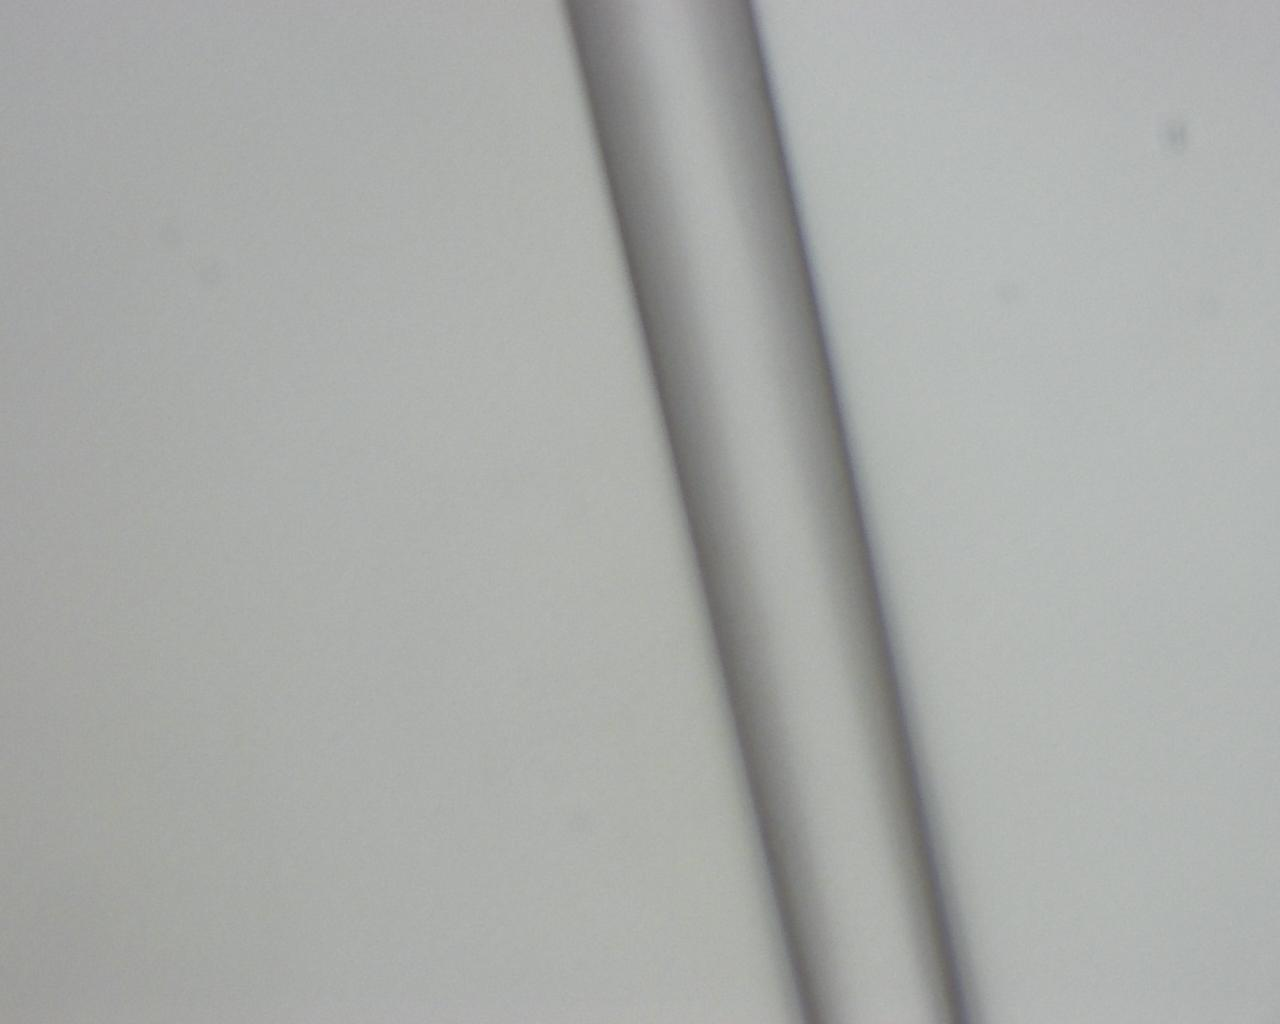fiber: (100, 491, 415, 1024), (825, 491, 923, 1024), (592, 0, 646, 491)
